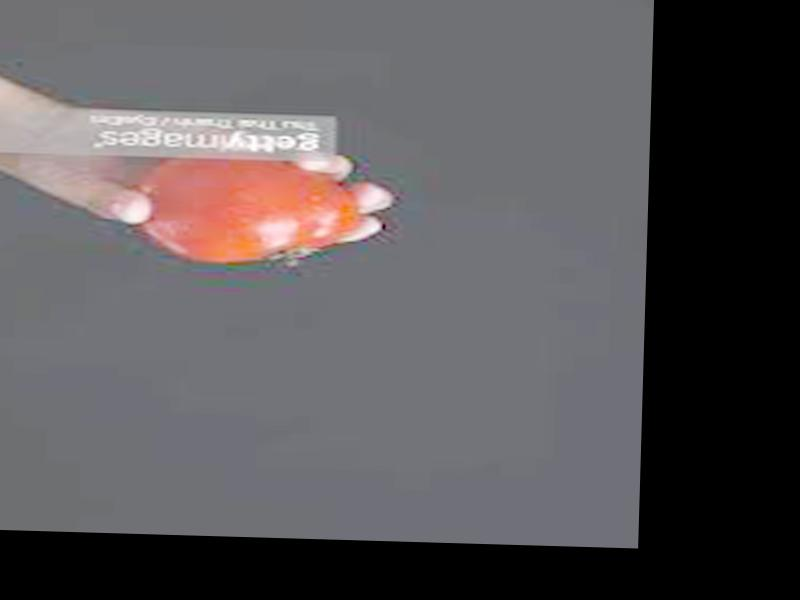Tomato: (143, 151, 369, 267)
